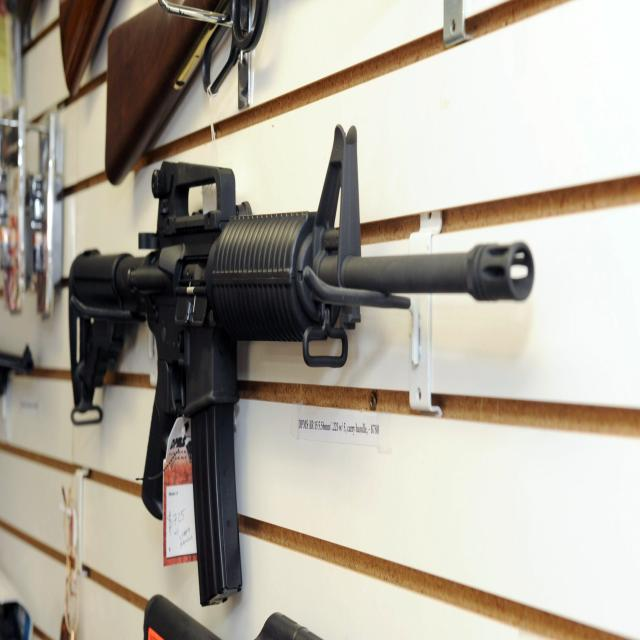Rifle: (71, 130, 531, 611)
